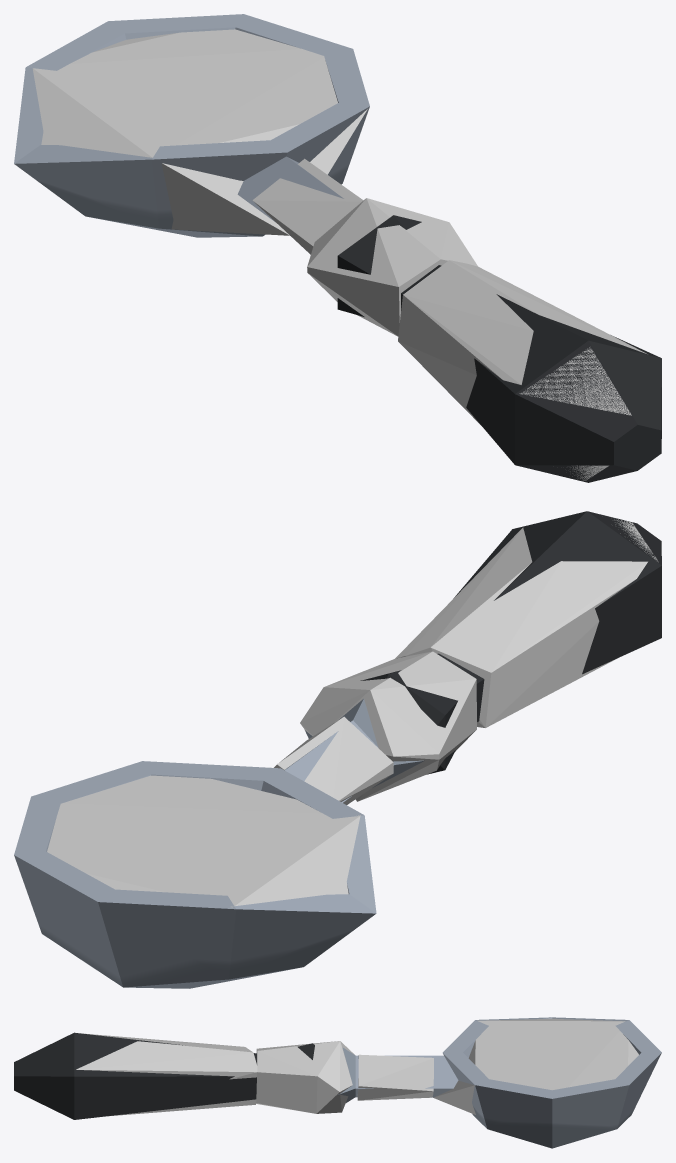
The model's file is SM_Item_Wax_Seal_Spoon_02.fbx.
3 views of the same model, one above another, from view 1: azimuth 30°, elevation 25°; view 2: azimuth 150°, elevation 25°; view 3: azimuth 270°, elevation 25° (orthographic). The views are drawn at different scales.
Visible parts, largest first — view 1: SM_Item_Wax_Seal_Spoon_02_ConvexHulls, SM_Item_Wax_Seal_Spoon_02; view 2: SM_Item_Wax_Seal_Spoon_02_ConvexHulls, SM_Item_Wax_Seal_Spoon_02; view 3: SM_Item_Wax_Seal_Spoon_02_ConvexHulls, SM_Item_Wax_Seal_Spoon_02.
Boxes of the visible parts, x1,y1,x2,y2 form: SM_Item_Wax_Seal_Spoon_02_ConvexHulls: (32, 29, 647, 480); SM_Item_Wax_Seal_Spoon_02: (14, 14, 661, 482); SM_Item_Wax_Seal_Spoon_02_ConvexHulls: (47, 519, 658, 907); SM_Item_Wax_Seal_Spoon_02: (14, 511, 661, 988); SM_Item_Wax_Seal_Spoon_02_ConvexHulls: (76, 1018, 638, 1116); SM_Item_Wax_Seal_Spoon_02: (14, 1017, 661, 1148).
Bounding box in the file's own units: 9.2 × 24.89 × 4.75.
Materials: 2 (1 with a texture image).
